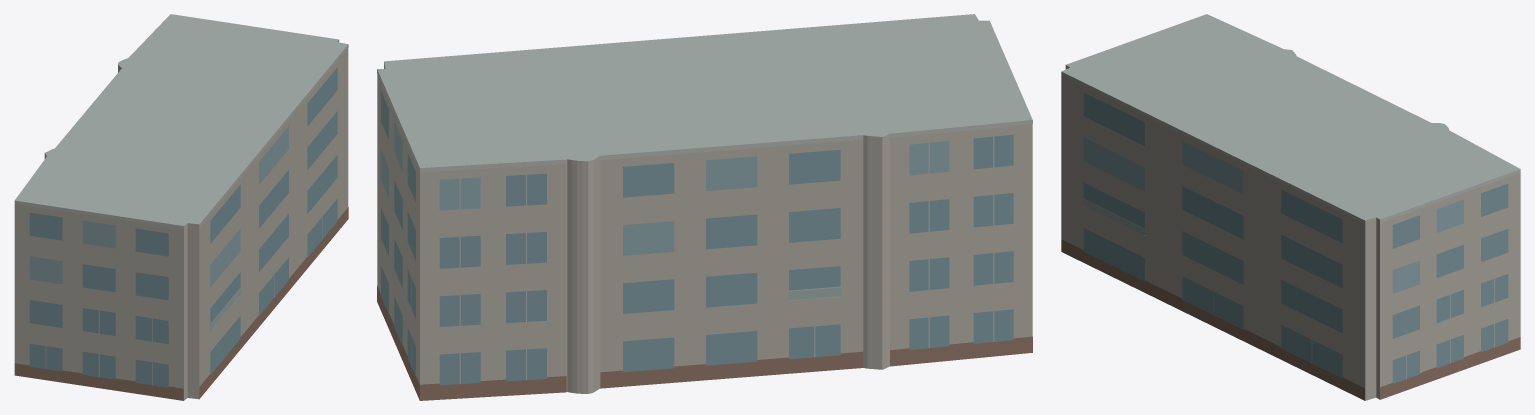
File: survey-upis-32778479.glb
3 views of the same model, side by side, from view 1: azimuth 30°, elevation 25°; view 2: azimuth 150°, elevation 25°; view 3: azimuth 270°, elevation 25° (orthographic). The views are drawn at different scales.
Parts seen in each view (by area): view 1: survey-upis-32778479.tmp; view 2: survey-upis-32778479.tmp; view 3: survey-upis-32778479.tmp.
Boxes of the visible parts, bbox=[...] form: survey-upis-32778479.tmp: bbox=[14, 14, 348, 400]; survey-upis-32778479.tmp: bbox=[377, 14, 1032, 400]; survey-upis-32778479.tmp: bbox=[1061, 14, 1520, 400].
Bounding box in the file's own units: 31.34 × 12.75 × 29.45.
